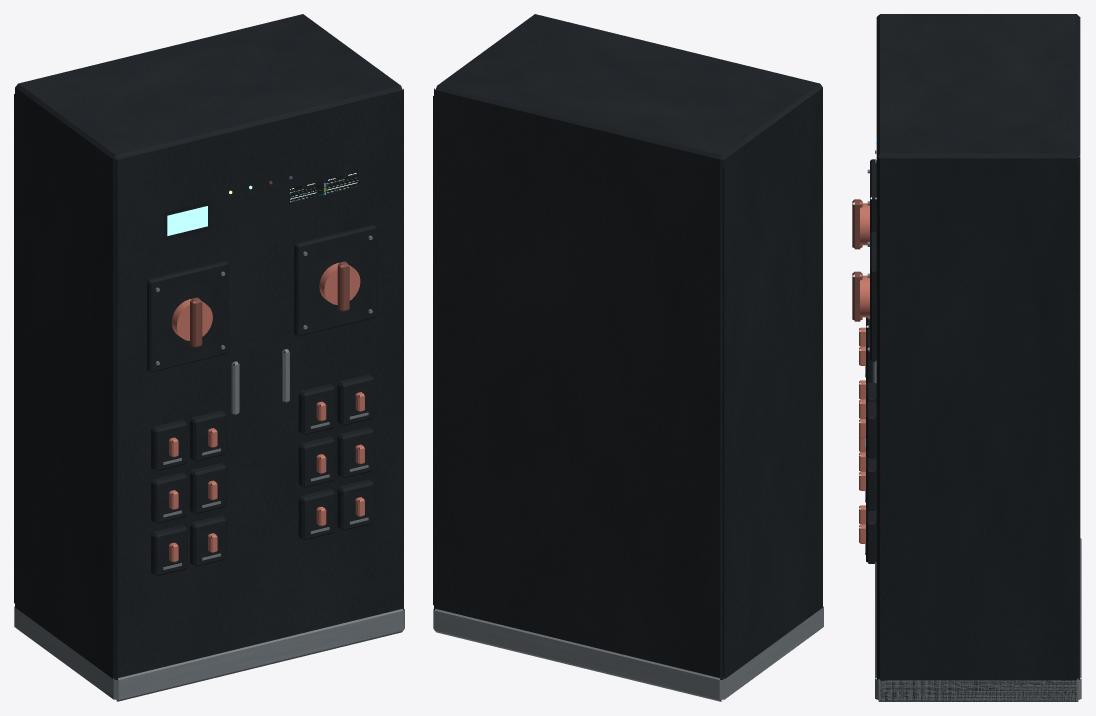
The model's file is power_distribution_ats.gltf.
The picture shows the model from 3 angles, left to right: view 1: azimuth 30°, elevation 25°; view 2: azimuth 150°, elevation 25°; view 3: azimuth 270°, elevation 25°; orthographic projection.
Visible parts, largest first — view 1: power_distribution_ats_distance_shell, pdu_cabinet_frame, distribution_door_right_panel, distribution_door_left_panel, pdu_telemetry_display; view 2: power_distribution_ats_distance_shell, pdu_cabinet_frame; view 3: power_distribution_ats_distance_shell, pdu_cabinet_frame, distribution_door_right_panel, distribution_door_left_panel.
Boxes of the visible parts, box(x1,y1,x2,y2) form: power_distribution_ats_distance_shell: box(15, 14, 403, 701); pdu_cabinet_frame: box(14, 94, 404, 701); distribution_door_right_panel: box(282, 225, 376, 540); distribution_door_left_panel: box(147, 261, 239, 576); pdu_telemetry_display: box(164, 171, 358, 240); power_distribution_ats_distance_shell: box(434, 14, 822, 701); pdu_cabinet_frame: box(433, 96, 823, 701); power_distribution_ats_distance_shell: box(876, 14, 1080, 701); pdu_cabinet_frame: box(875, 154, 1081, 701); distribution_door_right_panel: box(852, 231, 876, 563); distribution_door_left_panel: box(852, 159, 876, 456).
Size of what is drawn, in the model's own units: 1.16 by 2.08 by 0.7885.
Materials: 13 (8 with a texture image).
